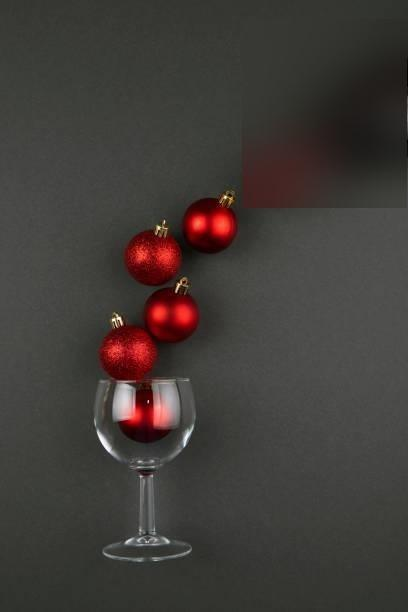glass-wine: (92, 375, 197, 563)
